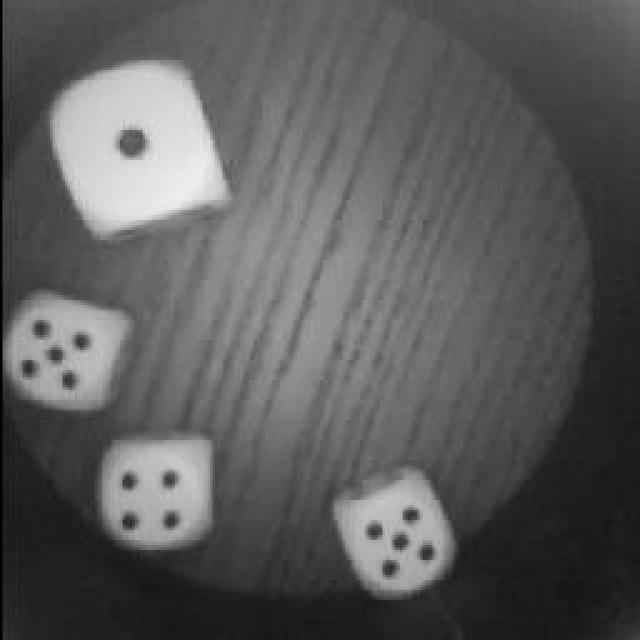dice_1: (45, 55, 223, 237)
dice_4: (92, 427, 218, 555)
dice_5: (327, 468, 455, 598), (0, 290, 122, 410)
